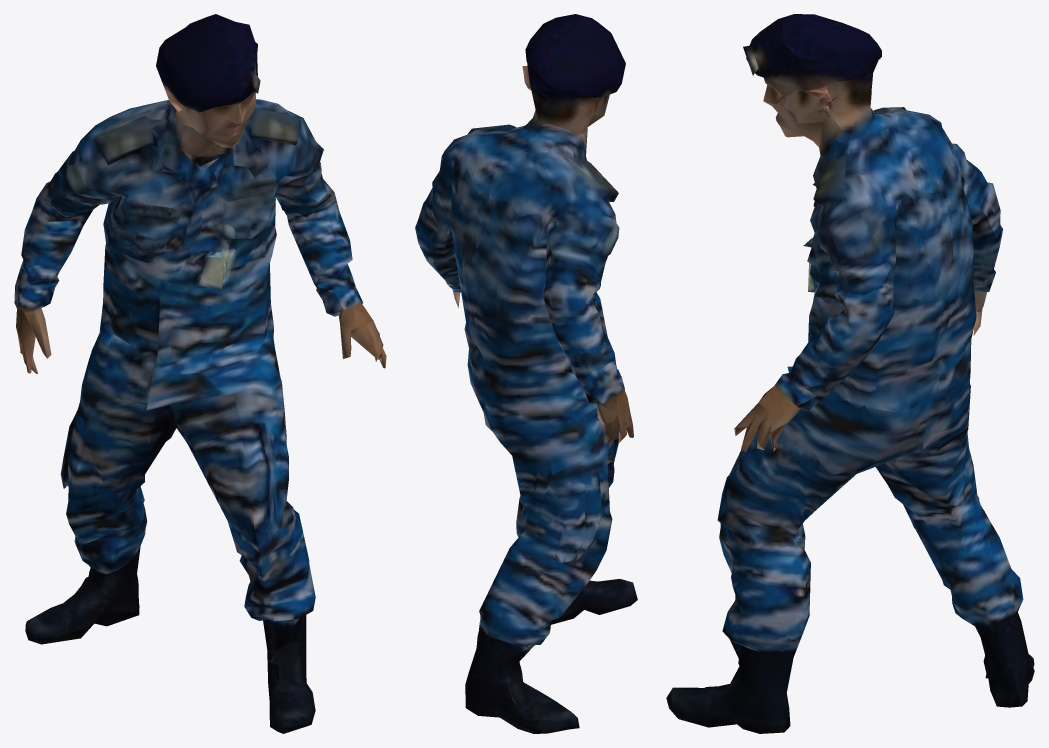
File: tni_au_idle_lod2.glb
3 views of the same model, side by side, from view 1: azimuth 30°, elevation 25°; view 2: azimuth 150°, elevation 25°; view 3: azimuth 270°, elevation 25° (orthographic). The views are drawn at different scales.
Parts seen in each view (by area): view 1: tripo_node_454661d9; view 2: tripo_node_454661d9; view 3: tripo_node_454661d9.
Boxes of the visible parts, box(x1,y1,x2,y2) form: tripo_node_454661d9: box(14, 14, 386, 733); tripo_node_454661d9: box(415, 14, 637, 733); tripo_node_454661d9: box(666, 14, 1034, 733).
Size of the model in its own units: 40.31 by 94.04 by 45.38.
Materials: 1 (1 with a texture image).
